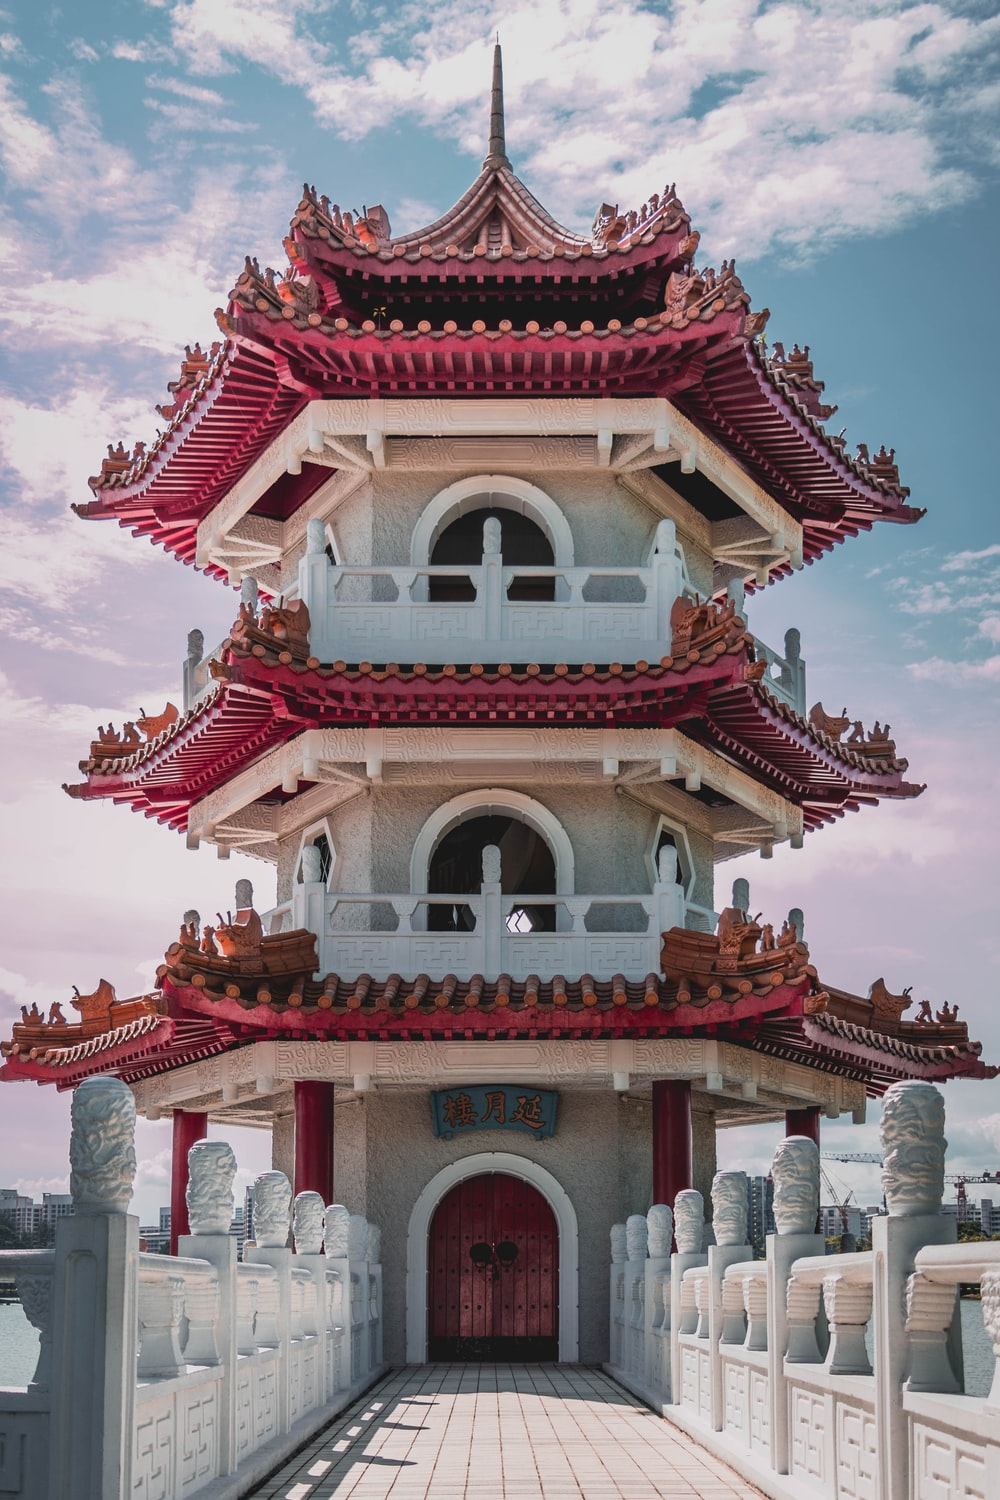Temple: (58, 71, 974, 1185)
